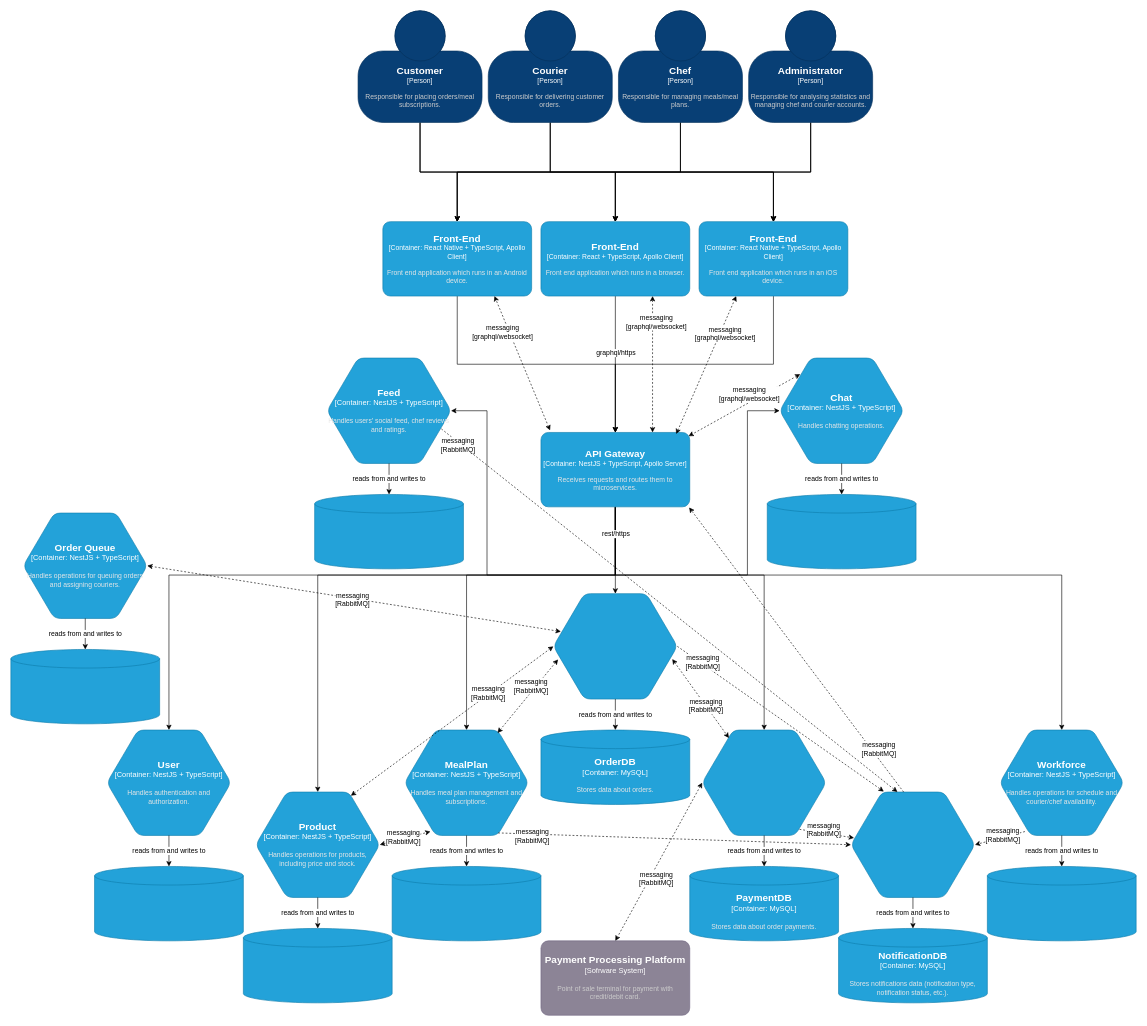
This 1147x1026 diagram has some shape labels left out. Here are the shapes that lost their labels. From the top down, the centre of each, then its label:
[388,531]: FeedDB [Container: MySQL] Stores data about posts, ratings and reviews.
[841,531]: ChatDB [Container: MySQL] Stores chat rooms and messages.
[615,646]: Order [Container: NestJS + TypeScript] Handles operations for orders.
[85,686]: OrderQueueDB [Container: MySQL] Stores data about order queues.
[764,782]: Payment [Container: NestJS + TypeScript] Handles operations for order payment.
[912,844]: Notification [Container: NestJS + TypeScript] Sends notifications to users
[168,903]: UserDB [Container: MySQL] Stores authentication credentials, and roles of users.
[466,903]: MealPlanDB [Container: MySQL] Stores data about meal plans and subscriptions.
[1061,903]: WorkforceDB [Container: MySQL] Stores data about schedue/availability.
[317,965]: ProductDB [Container: MySQL] Stores data about products.
